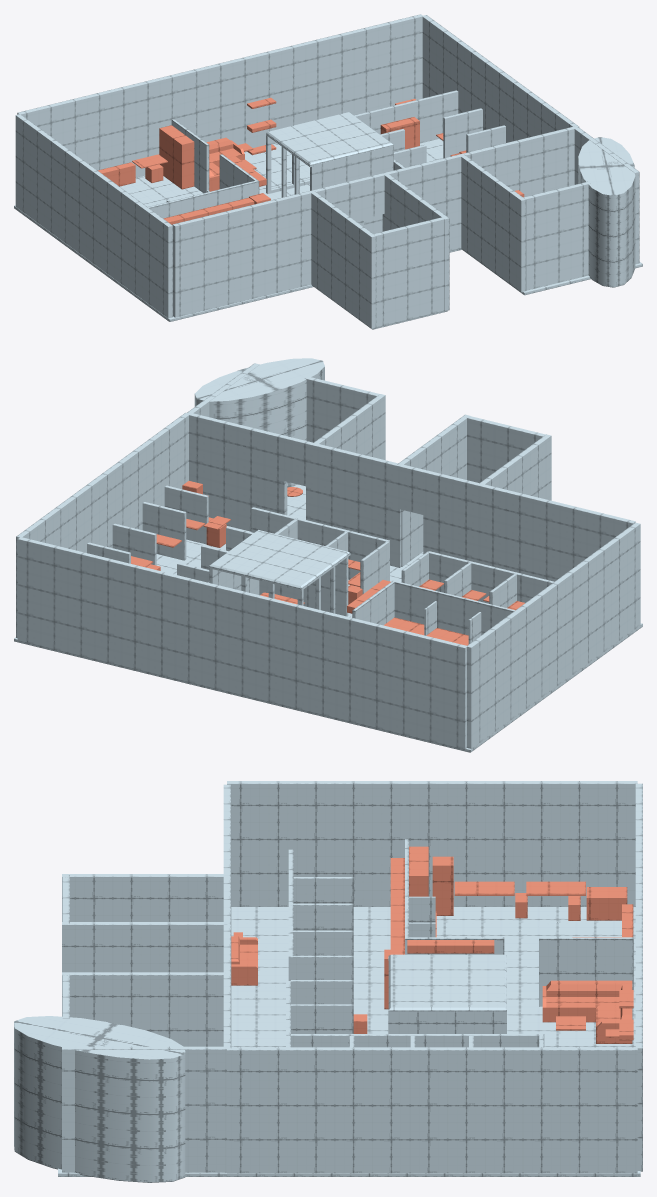
File: Arena%20WiseLab%20AR%20Occluders.glb
3 renders of one model, top to bottom at view 1: azimuth 30°, elevation 25°; view 2: azimuth 150°, elevation 25°; view 3: azimuth 270°, elevation 25°, orthographic. The views are drawn at different scales.
Parts seen in each view (by area): view 1: Cube (×25), Cylinder; view 2: Cube (×24), Cylinder; view 3: Cube (×31), Cylinder.
Part boxes in pixels (<box>): Cube (×25): <box>14,14,642,329</box>; Cylinder: <box>578,137,635,287</box>; Cube (×24): <box>14,376,642,752</box>; Cylinder: <box>194,358,324,487</box>; Cube (×31): <box>58,781,642,1176</box>; Cylinder: <box>14,1016,185,1182</box>.
Bounding box in the file's own units: 17.51 × 3.7 × 16.72.
Materials: 2 (2 with a texture image).
